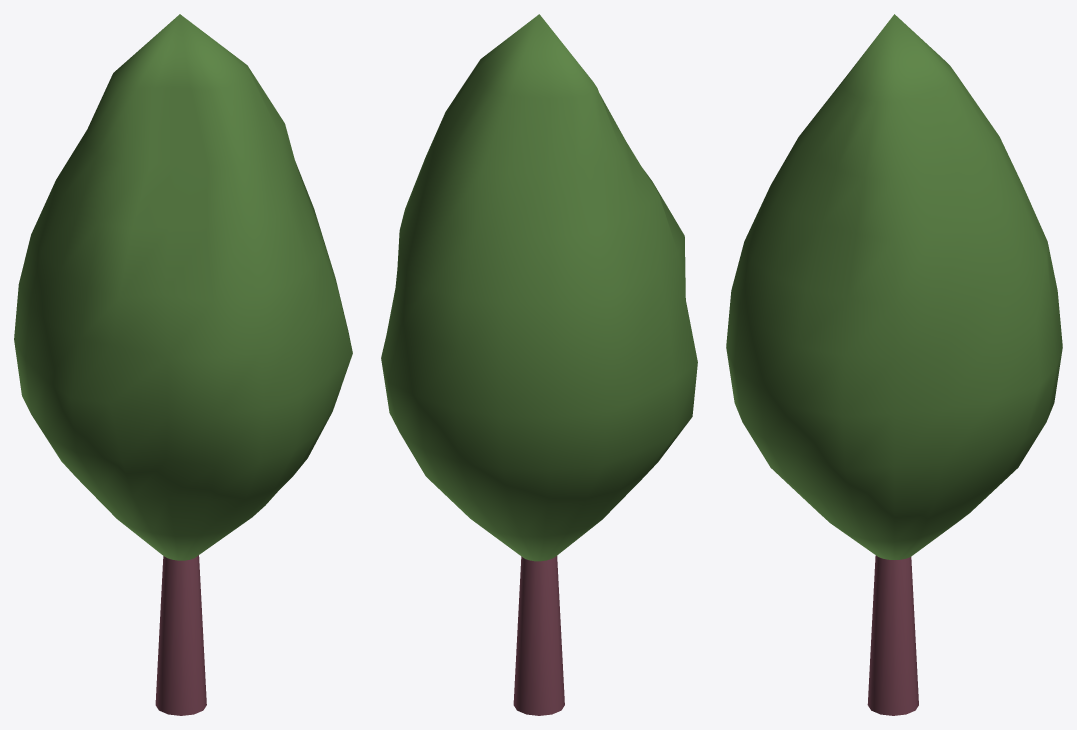
The model's file is uglyBush.fbx.
3 views of the same model, side by side, from view 1: azimuth 30°, elevation 25°; view 2: azimuth 150°, elevation 25°; view 3: azimuth 270°, elevation 25° (orthographic).
Parts seen in each view (by area): view 1: fulbuske2; view 2: fulbuske2; view 3: fulbuske2.
Part boxes in pixels (left/top/right/bottom): fulbuske2: left=14, top=14, right=352, bottom=715; fulbuske2: left=381, top=14, right=697, bottom=715; fulbuske2: left=726, top=14, right=1062, bottom=715.
Size of the model in its own units: 1.14 by 2.72 by 1.2.
